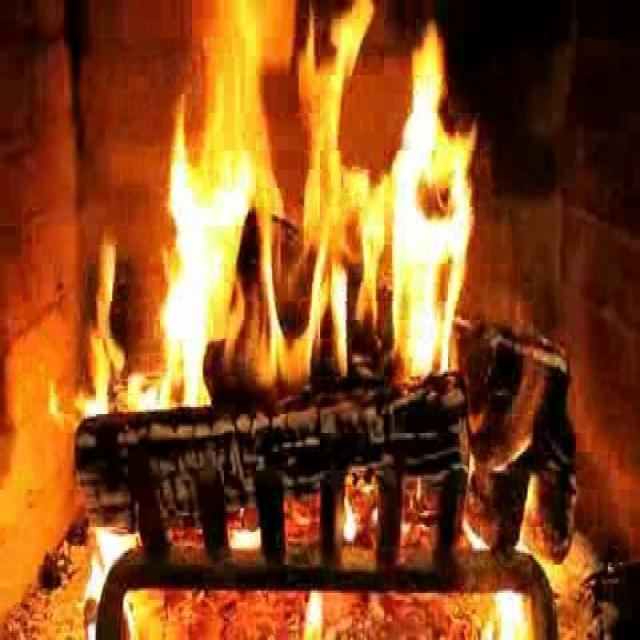Fire: (156, 11, 462, 397)
